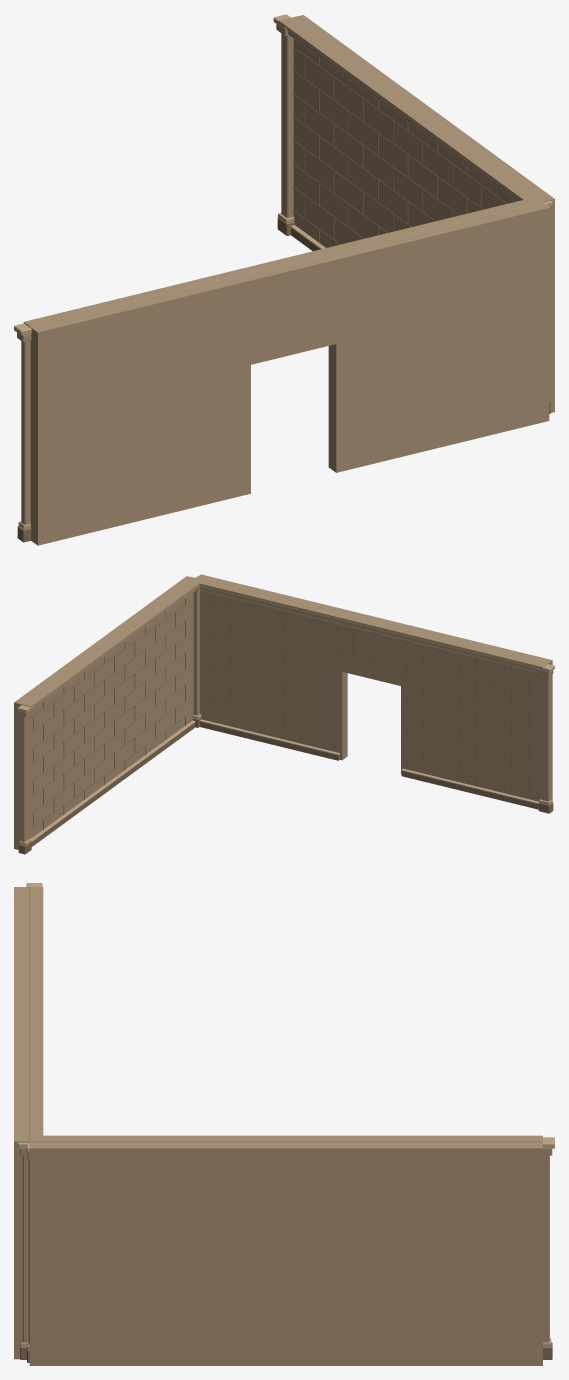
Rendered from mainb1_u01_complete_shell.glb.
3 views of the same model, one above another, from view 1: azimuth 30°, elevation 25°; view 2: azimuth 150°, elevation 25°; view 3: azimuth 270°, elevation 25° (orthographic). The views are drawn at different scales.
Visible parts, largest first — view 1: mainb1_u01_front_Wall_Solid_00, mainb1_u01_right_Wall_Solid_00, mainb1_u01_front_Wall_Cornice_00_3_0, mainb1_u01_right_Wall_Cornice_00_3_0, mainb1_u01_right_Masonry_Real_joint_mesh, Pilaster_Shaft_004, Pilaster_Shaft_009, mainb1_u01_right_Wall_Cornice_00_1_0; view 2: mainb1_u01_front_Wall_Solid_00, mainb1_u01_right_Wall_Solid_00, mainb1_u01_front_Masonry_Real_joint_mesh, mainb1_u01_right_Masonry_Real_joint_mesh, mainb1_u01_front_Wall_Cornice_00_3_0, mainb1_u01_right_Wall_Cornice_00_3_0, Pilaster_Shaft_009, Pilaster_Shaft_004, mainb1_u01_front_Wall_Cornice_00_1_0, mainb1_u01_right_Wall_Skirting_00_0, mainb1_u01_front_Wall_Skirting_00_0, mainb1_u01_front_Wall_Skirting_00_1 (+8 smaller); view 3: mainb1_u01_right_Wall_Solid_00, mainb1_u01_front_Wall_Solid_00, mainb1_u01_front_Wall_Cornice_00_3_0, mainb1_u01_right_Wall_Cornice_00_3_0, Pilaster_Shaft_004, Pilaster_Shaft_005.
Boxes of the visible parts, x1,y1,x2,y2 form: mainb1_u01_front_Wall_Solid_00: (30, 202, 549, 545); mainb1_u01_right_Wall_Solid_00: (291, 15, 554, 412); mainb1_u01_front_Wall_Cornice_00_3_0: (23, 197, 541, 327); mainb1_u01_right_Wall_Cornice_00_3_0: (278, 18, 540, 202); mainb1_u01_right_Masonry_Real_joint_mesh: (292, 47, 506, 244); Pilaster_Shaft_004: (281, 33, 293, 217); Pilaster_Shaft_009: (21, 340, 30, 524); mainb1_u01_right_Wall_Cornice_00_1_0: (288, 31, 519, 201); mainb1_u01_front_Wall_Solid_00: (196, 574, 552, 801); mainb1_u01_right_Wall_Solid_00: (14, 576, 195, 849); mainb1_u01_front_Masonry_Real_joint_mesh: (200, 597, 540, 794); mainb1_u01_right_Masonry_Real_joint_mesh: (29, 598, 193, 830); mainb1_u01_front_Wall_Cornice_00_3_0: (192, 578, 547, 668); mainb1_u01_right_Wall_Cornice_00_3_0: (23, 578, 201, 707); Pilaster_Shaft_009: (541, 675, 551, 801); Pilaster_Shaft_004: (20, 715, 29, 842); mainb1_u01_front_Wall_Cornice_00_1_0: (199, 586, 538, 671); mainb1_u01_right_Wall_Skirting_00_0: (31, 723, 195, 846); mainb1_u01_front_Wall_Skirting_00_0: (200, 722, 339, 760); mainb1_u01_front_Wall_Skirting_00_1: (401, 771, 538, 809); mainb1_u01_right_Wall_Solid_00: (29, 1142, 542, 1365); mainb1_u01_front_Wall_Solid_00: (14, 887, 29, 1359); mainb1_u01_front_Wall_Cornice_00_3_0: (29, 887, 43, 1141); mainb1_u01_right_Wall_Cornice_00_3_0: (30, 1135, 542, 1141); Pilaster_Shaft_004: (543, 1155, 549, 1342); Pilaster_Shaft_005: (22, 1155, 28, 1342).
Bounding box in the file's own units: 11.3 × 4.31 × 9.7.
